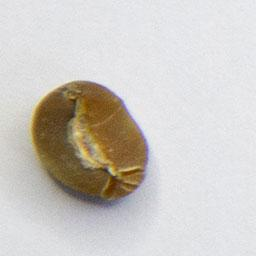defect: (28, 77, 151, 205)
